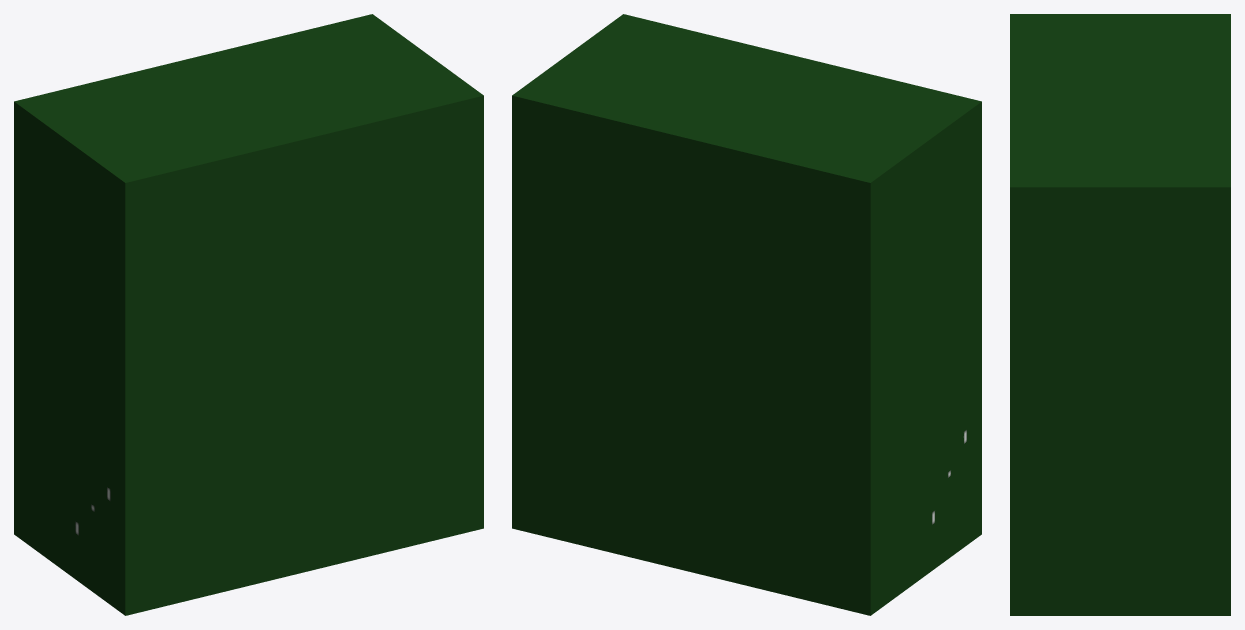
Rendered from float_Body.obj.
3 views of the same model, side by side, from view 1: azimuth 30°, elevation 25°; view 2: azimuth 150°, elevation 25°; view 3: azimuth 270°, elevation 25° (orthographic).
Parts seen in each view (by area): view 1: 体; view 2: 体; view 3: 体.
Part boxes in pixels (x1,y1,x2,y2): 体: (14,14,483,615); 体: (512,14,981,615); 体: (1010,14,1230,615).
Bounding box in the file's own units: 0.7542 × 0.8702 × 0.4061.
1 material, 1 textured.
